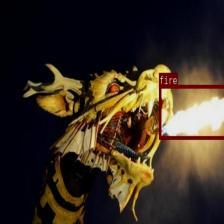fire: (158, 84, 224, 138)
